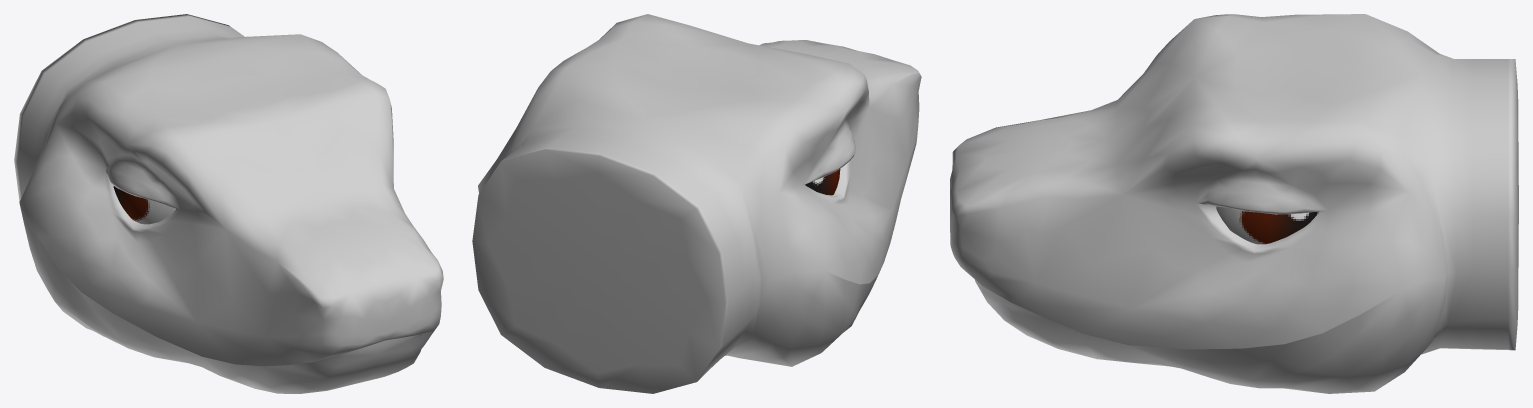
File: smooth.fbx
The picture shows the model from 3 angles, left to right: view 1: azimuth 30°, elevation 25°; view 2: azimuth 150°, elevation 25°; view 3: azimuth 270°, elevation 25°; orthographic projection. The views are drawn at different scales.
Parts seen in each view (by area): view 1: polySurface5; view 2: polySurface5; view 3: polySurface5.
Part boxes in pixels (<box>): polySurface5: <box>14,14,443,393</box>; polySurface5: <box>472,14,921,393</box>; polySurface5: <box>950,14,1518,393</box>.
Bounding box in the file's own units: 1.05 × 0.7244 × 1.39.
